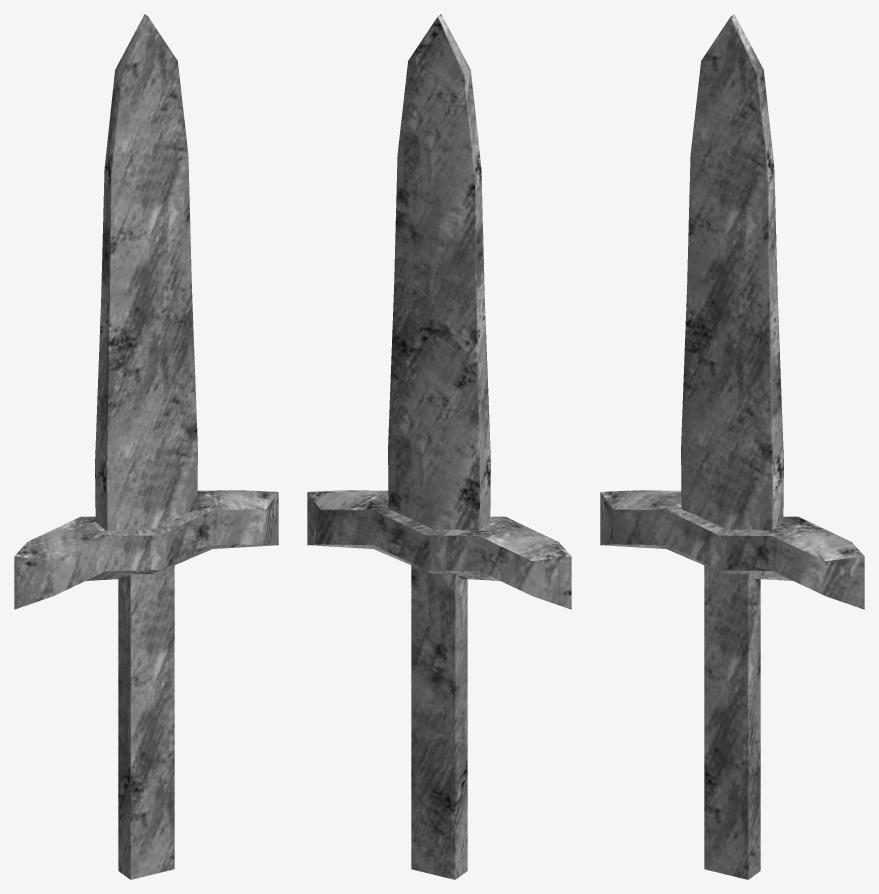
The model's file is Sword.glb.
3 views of the same model, side by side, from view 1: azimuth 30°, elevation 25°; view 2: azimuth 150°, elevation 25°; view 3: azimuth 330°, elevation 25° (orthographic).
Visible parts, largest first — view 1: Sword; view 2: Sword; view 3: Sword.
Boxes of the visible parts, bbox=[...] form: Sword: bbox=[14, 14, 278, 879]; Sword: bbox=[307, 14, 571, 879]; Sword: bbox=[600, 14, 864, 879].
Bounding box in the file's own units: 0.2788 × 0.8623 × 0.0482.
1 material, 1 textured.
